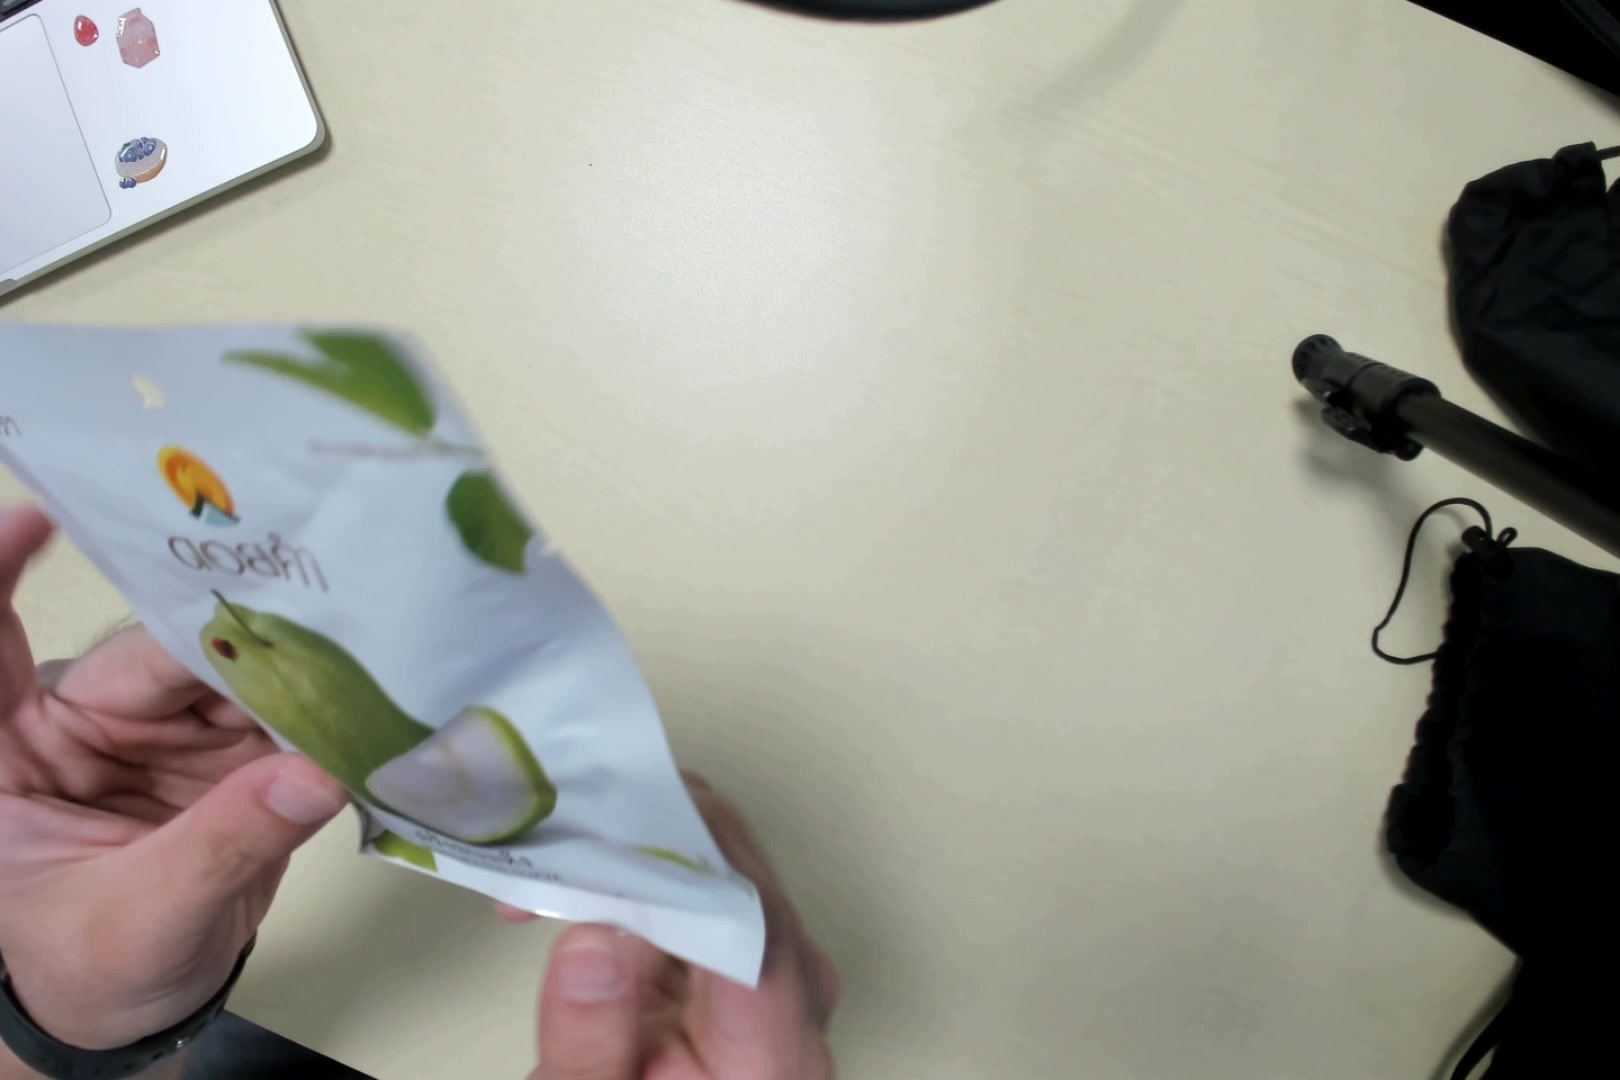DriedFruits_0-99g_Halal_NonHealthy: (2, 322, 765, 967)
